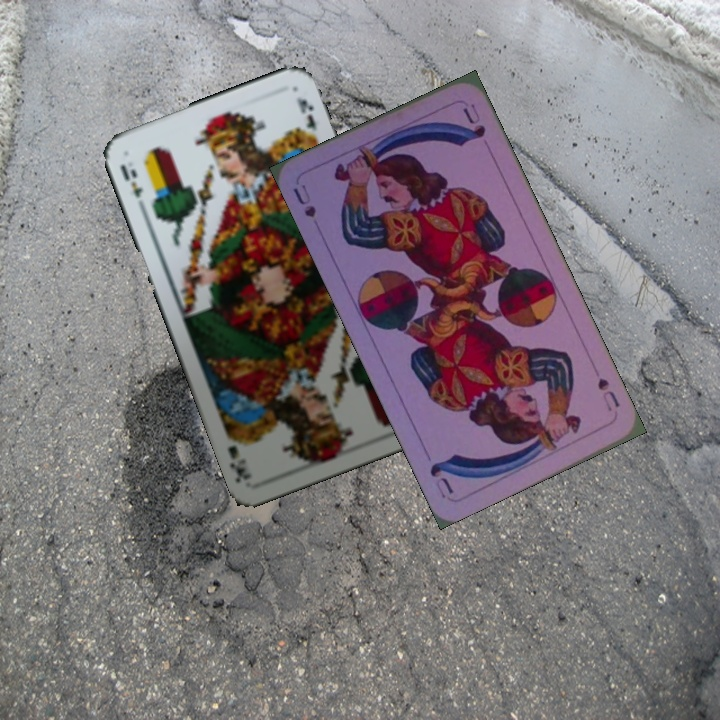EK: (116, 159, 146, 200)
SU: (593, 373, 623, 415), (288, 180, 319, 220)
